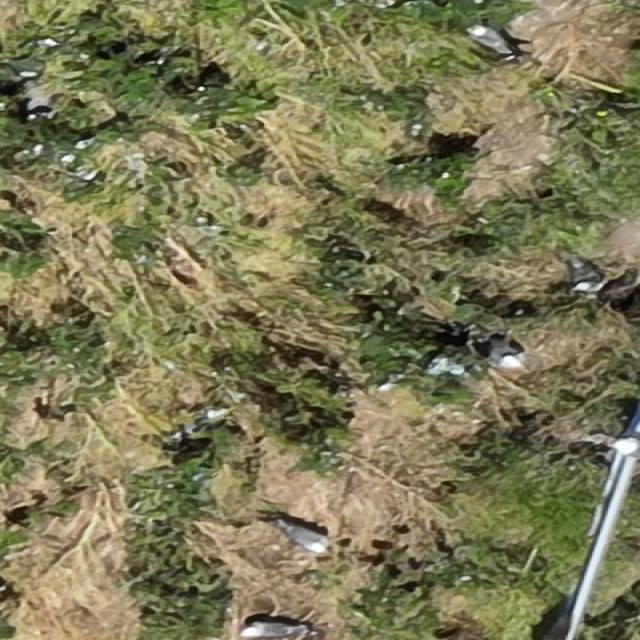umineko: (478, 328, 521, 368), (565, 254, 603, 293), (466, 23, 512, 53), (284, 527, 326, 554), (248, 622, 296, 637), (615, 435, 639, 457)
